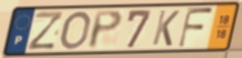7: (125, 9, 153, 50)
F: (176, 6, 215, 50)
K: (150, 9, 182, 48)
O: (58, 10, 93, 51)
P: (87, 9, 125, 50)
Z: (25, 10, 65, 53)
